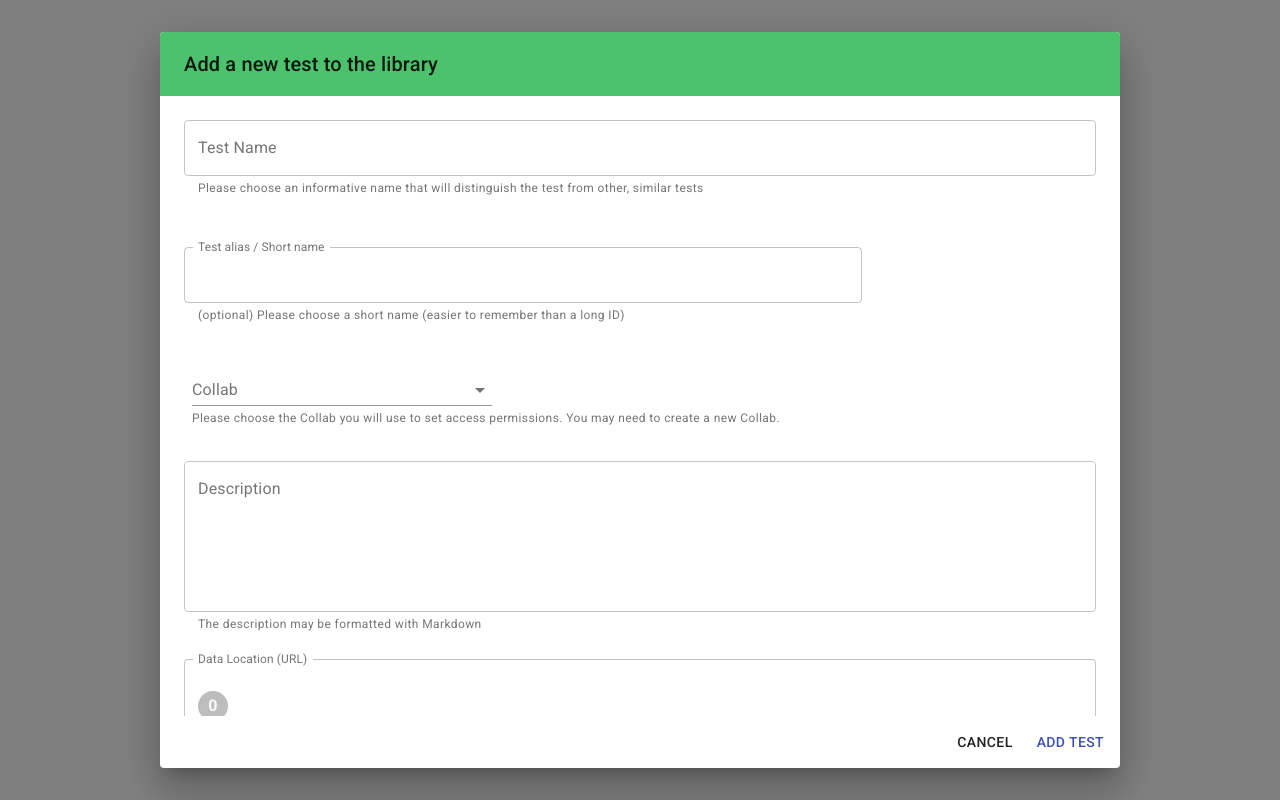
TestAddForm › handleSubmit › shows error when name is empty and submit is clicked
Click the button "Add Test": (1070, 742) [1029, 724, 1112, 760]
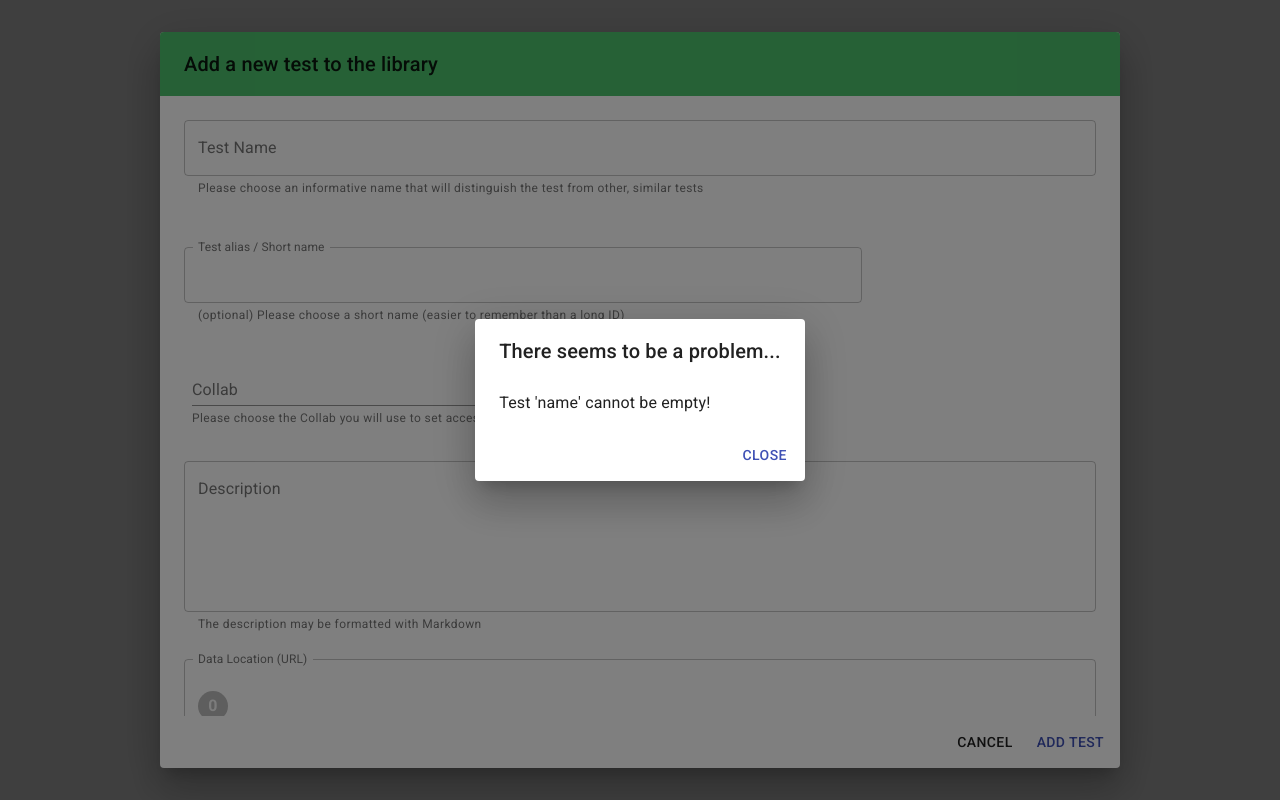
Check: the text "Test 'name' cannot be empty!" is shown, box [499, 393, 710, 412]
